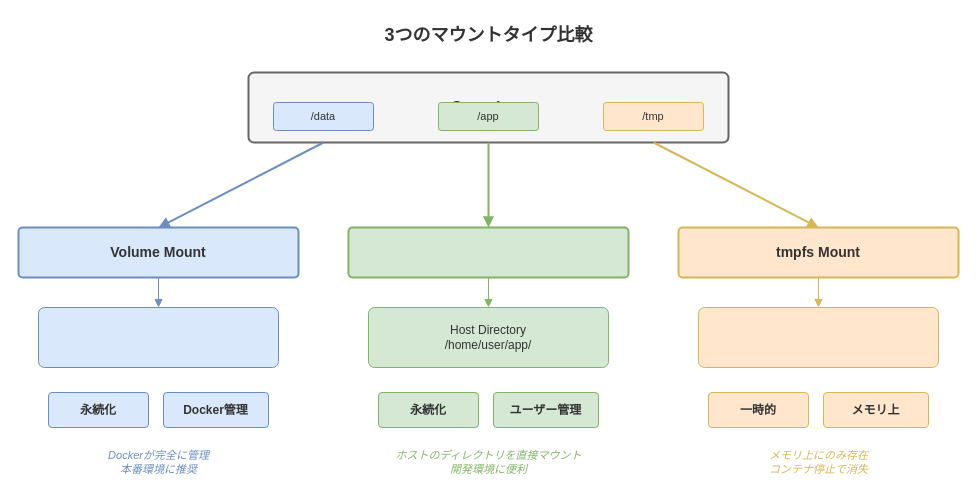
Image size: 976x499. Some labels were removed from this diagram. Each missing label, with the centre of its shape:
Bind Mount: point 488,252
Docker Volume /var/lib/docker/volumes/: point 158,337
Memory（RAM）: point 818,337
